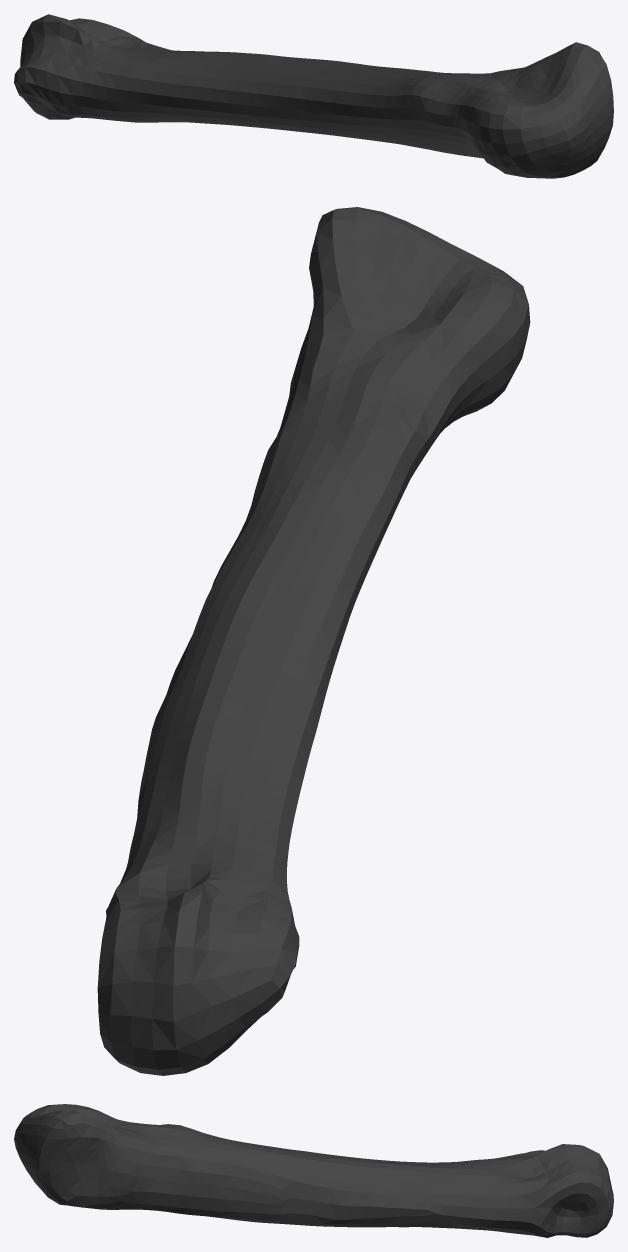
File: Metacarpal_II.glb
3 views of the same model, one above another, from view 1: azimuth 30°, elevation 25°; view 2: azimuth 150°, elevation 25°; view 3: azimuth 270°, elevation 25° (orthographic). The views are drawn at different scales.
Parts seen in each view (by area): view 1: Metacarpal_II; view 2: Metacarpal_II; view 3: Metacarpal_II.
Part boxes in pixels (x1=…): Metacarpal_II: x1=14, y1=14, x2=613, y2=178; Metacarpal_II: x1=97, y1=207, x2=530, y2=1075; Metacarpal_II: x1=14, y1=1104, x2=613, y2=1237.
Bounding box in the file's own units: 0.3777 × 0.3185 × 0.8544.
1 material, 1 textured.
